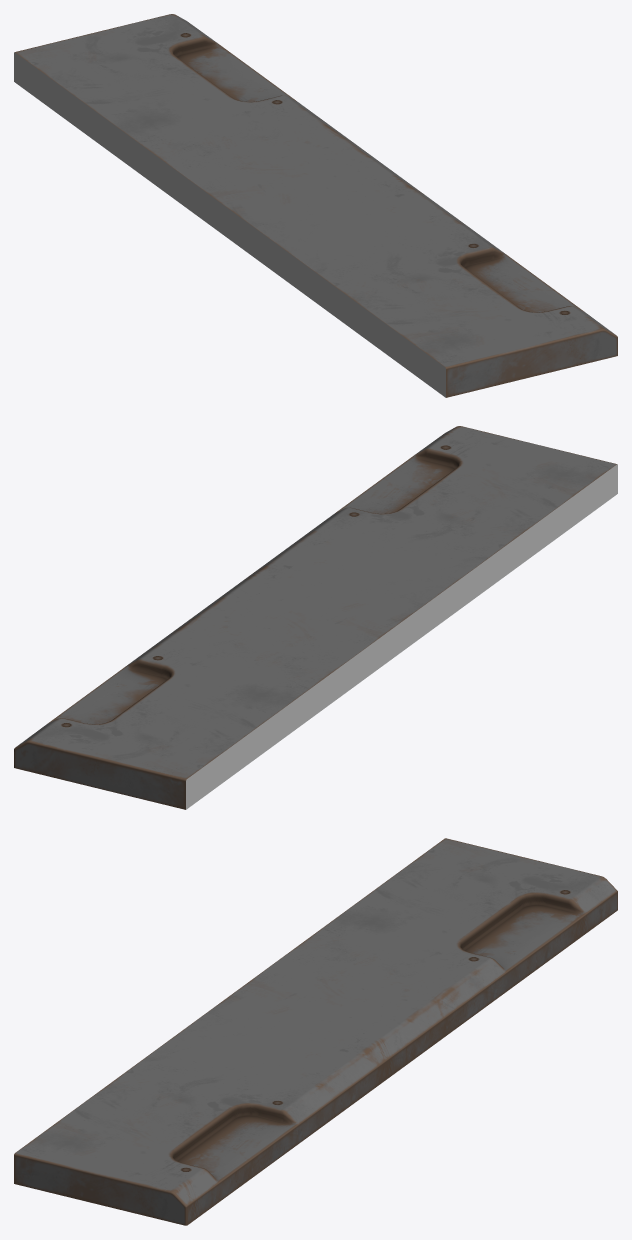
Rendered from SM_RoomStyle_Floor02.fbx.
3 renders of one model, top to bottom at view 1: azimuth 30°, elevation 25°; view 2: azimuth 150°, elevation 25°; view 3: azimuth 330°, elevation 25°, orthographic.
Visible parts, largest first — view 1: SM_RoomStyle_Floor02_LOD0; view 2: SM_RoomStyle_Floor02_LOD0; view 3: SM_RoomStyle_Floor02_LOD0.
Boxes of the visible parts, box(x1,y1,x2,y2) form: SM_RoomStyle_Floor02_LOD0: box(14, 14, 617, 397); SM_RoomStyle_Floor02_LOD0: box(14, 426, 617, 809); SM_RoomStyle_Floor02_LOD0: box(14, 838, 617, 1225).
Size of the model in its own units: 60 by 260 by 10.01.
2 materials, 1 textured.
